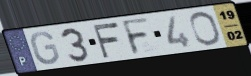3: (59, 26, 92, 64)
4: (165, 14, 192, 49)
F: (120, 16, 152, 57), (91, 21, 121, 60)
G: (29, 31, 62, 66)
O: (188, 10, 223, 47)
